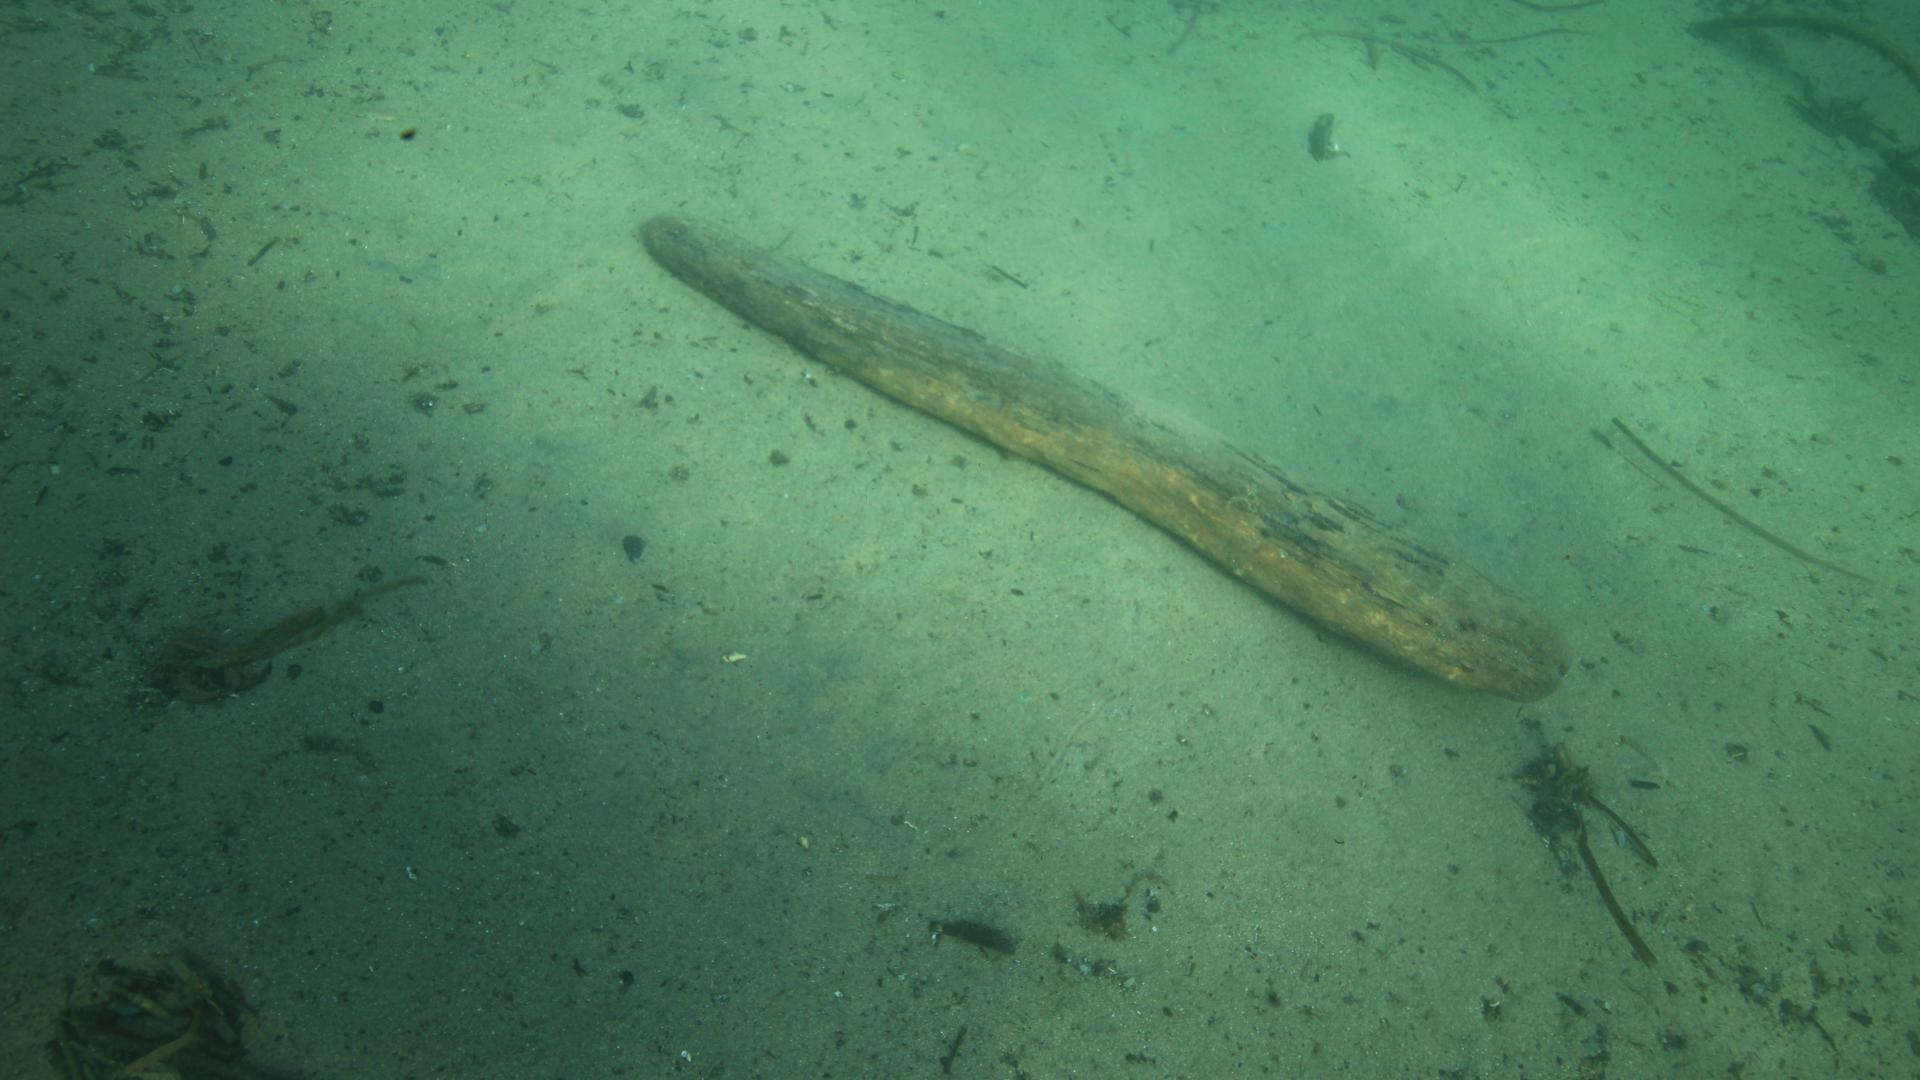wood: (640, 211, 1575, 702)
